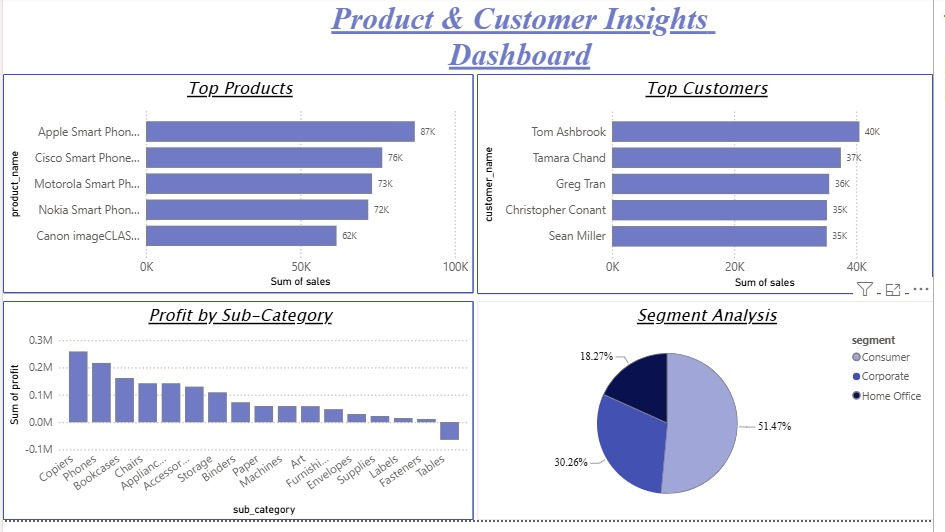

The dashboard page shown, as its layout file describes it:
{"tool":"powerbi","page":{"name":"Page 3","canvas":[1280,720],"ordinal":2},"visuals":[{"type":"textbox","box":[421.6,0,579.5,117.6],"z":0},{"type":"clusteredBarChart","title":"Top Products","fields":{"Category":["cleaned.product_name"],"Y":["Sum(cleaned.sales)"]},"box":[0,105.8,648,302],"z":1000},{"type":"clusteredBarChart","title":"Top Customers","fields":{"Category":["cleaned.customer_name"],"Y":["Sum(cleaned.sales)"]},"box":[652,105.3,628,302.7],"z":2000},{"type":"clusteredColumnChart","title":"Profit by Sub-Category","fields":{"Category":["cleaned.sub_category"],"Y":["Sum(cleaned.profit)"]},"box":[0,418.3,648.4,302.4],"z":3000},{"type":"pieChart","title":"Segment Analysis","fields":{"Category":["cleaned.segment"],"Y":["Sum(cleaned.sales)"]},"box":[651.8,418.3,629,302],"z":4000}]}

Visuals, with their boxes in screenshot pixels (x1, y1, x2, y2), scaled from the page's 1280x720 canvas onto the 945x532 screenshot:
textbox: [left=311, top=0, right=739, bottom=87]
"Top Products" clusteredBarChart: [left=0, top=78, right=478, bottom=301]
"Top Customers" clusteredBarChart: [left=481, top=78, right=944, bottom=301]
"Profit by Sub-Category" clusteredColumnChart: [left=0, top=309, right=479, bottom=531]
"Segment Analysis" pieChart: [left=481, top=309, right=944, bottom=531]
